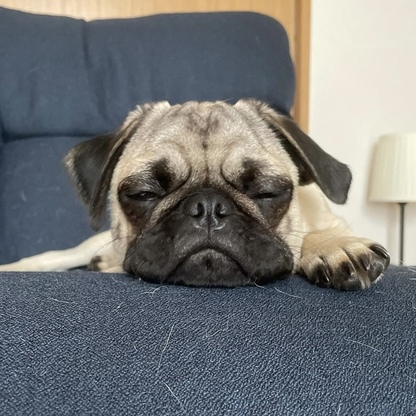Pug: (1, 91, 396, 303)
